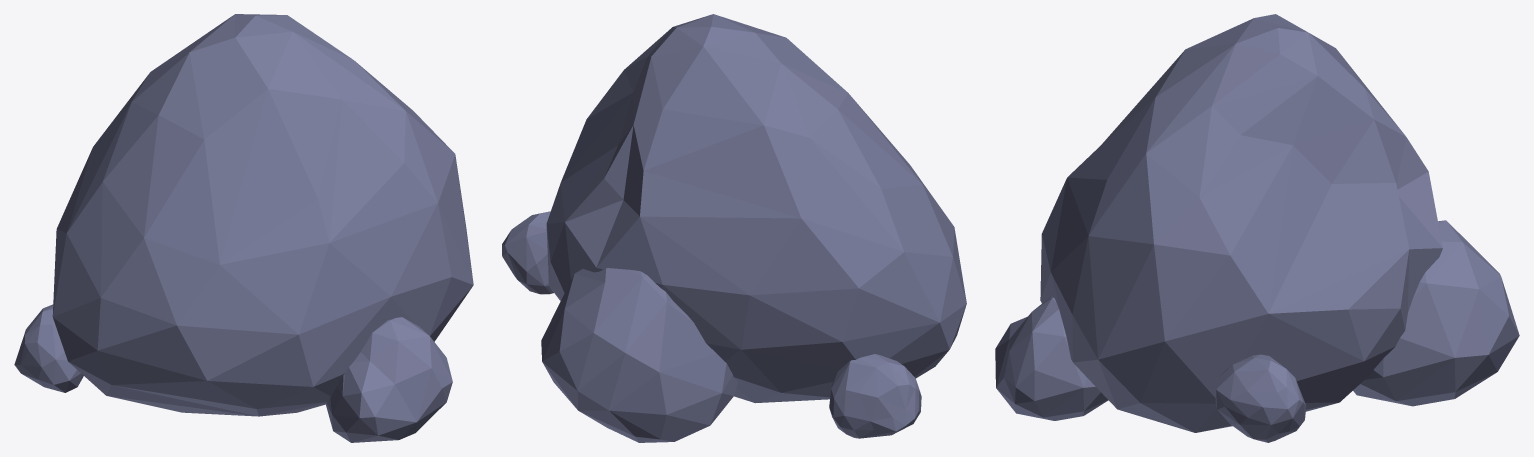
Rendered from Boulders1.fbx.
3 renders of one model, left to right at view 1: azimuth 30°, elevation 25°; view 2: azimuth 150°, elevation 25°; view 3: azimuth 270°, elevation 25°, orthographic. The views are drawn at different scales.
Parts seen in each view (by area): view 1: Boulder.001, Little Stones.002, Little stones.002; view 2: Boulder.001, Little Stones.001, Little stones.002, Little stones.001; view 3: Boulder.001, Little Stones.001, Little Stones.002, Little stones.001.
Boxes of the visible parts, x1,y1,x2,y2 form: Boulder.001: [52, 14, 473, 416]; Little Stones.002: [325, 317, 452, 442]; Little stones.002: [14, 304, 83, 392]; Boulder.001: [546, 14, 966, 403]; Little Stones.001: [541, 268, 737, 442]; Little stones.002: [829, 354, 921, 438]; Little stones.001: [502, 211, 553, 294]; Boulder.001: [1040, 14, 1442, 432]; Little Stones.001: [1353, 220, 1519, 406]; Little Stones.002: [995, 296, 1108, 420]; Little stones.001: [1215, 354, 1306, 442].
Size of the model in its own units: 280 by 226 by 281.
